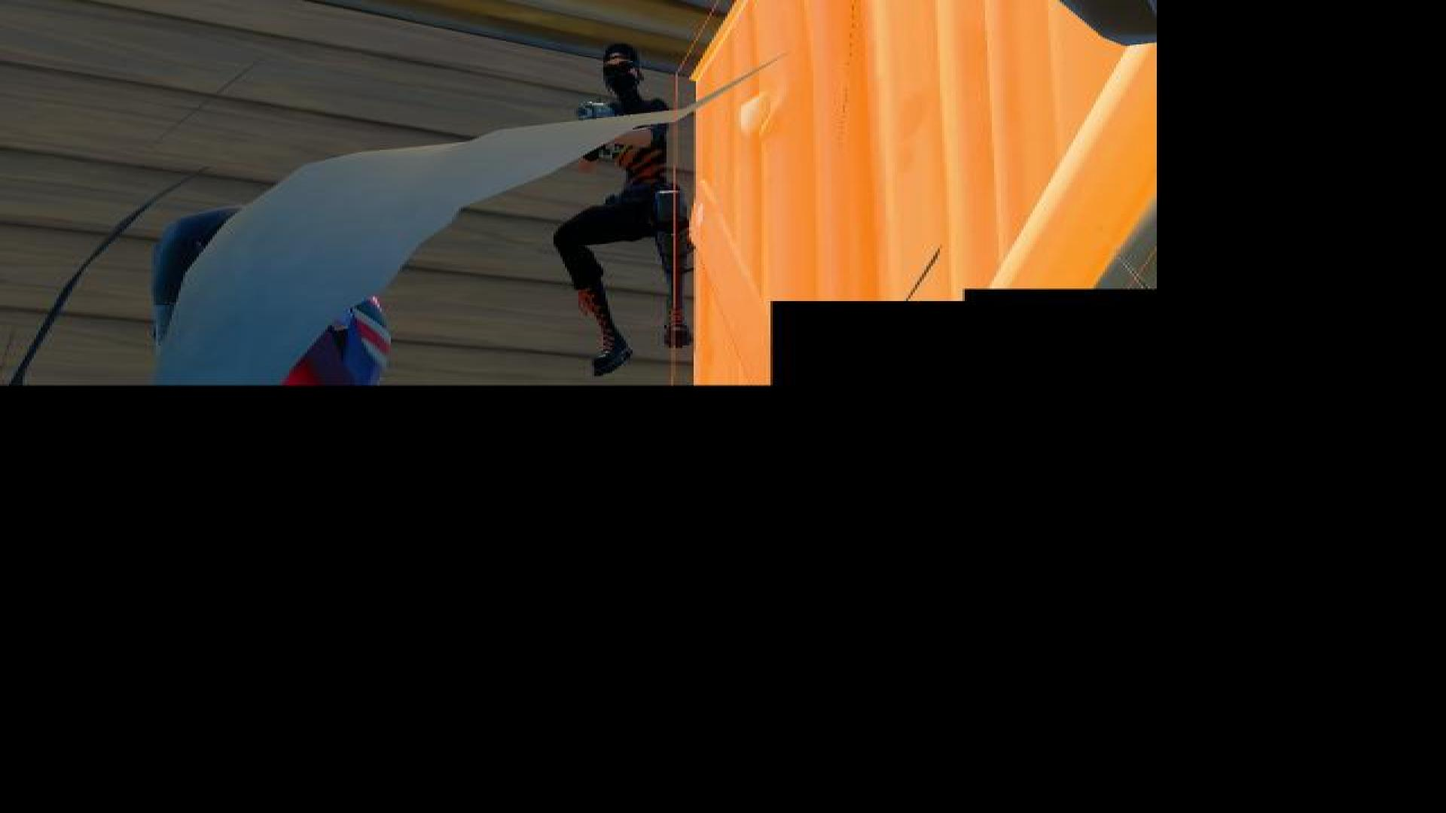player: (558, 34, 718, 391)
